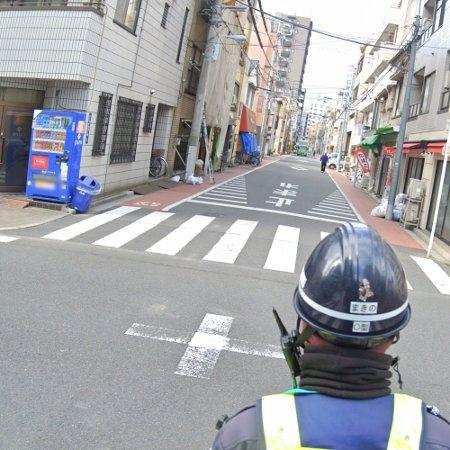crosswalks: (42, 205, 301, 274)
